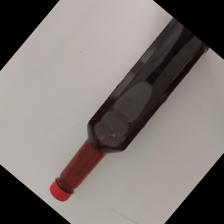Namngu: (48, 15, 211, 204)
